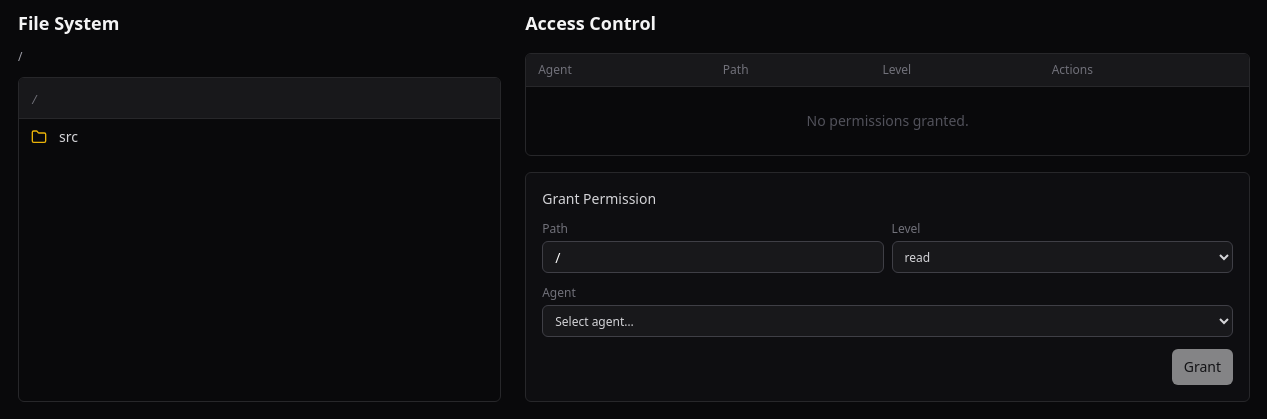
Test case: FSBrowser navigation › clicking "/" in breadcrumb returns to root
The image size is (1267, 419).
Click the text "src" at (68, 136), box [59,127,78,146]
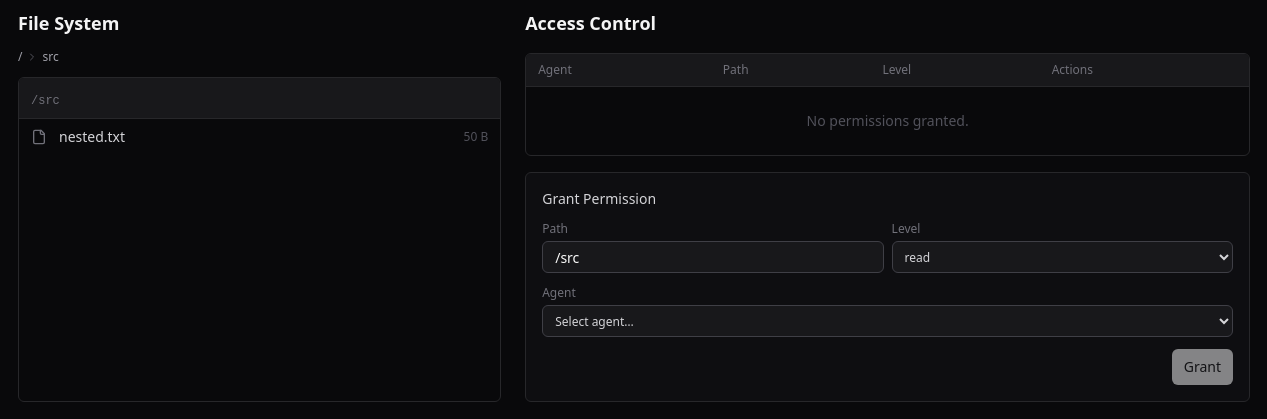
Now the text "nested.txt" is shown, box [59,127,125,146]
Click the button "/" at (20, 57), box [18,49,22,65]
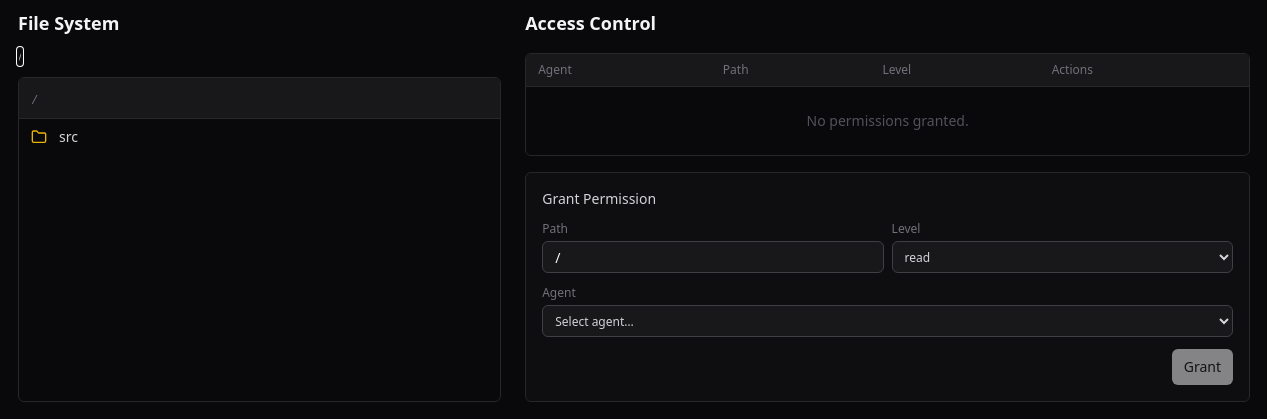
Now the text "src" is shown, box [59,127,78,146]
